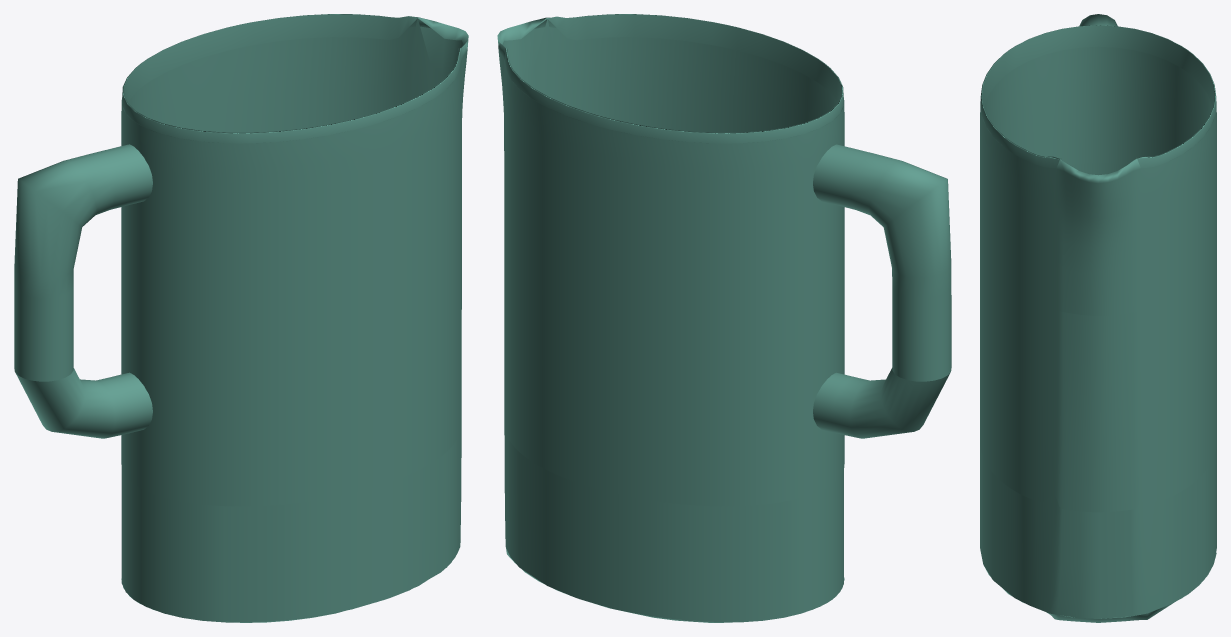
Rendered from jug_reduced.fbx.
The picture shows the model from 3 angles, left to right: view 1: azimuth 30°, elevation 25°; view 2: azimuth 150°, elevation 25°; view 3: azimuth 270°, elevation 25°; orthographic projection. The views are drawn at different scales.
Parts seen in each view (by area): view 1: polySurface24, polySurface23, polySurface25, polySurface20, polySurface21; view 2: polySurface24, polySurface23, polySurface25, polySurface20, polySurface21; view 3: polySurface24, polySurface23, polySurface25, polySurface21, polySurface26, polySurface20.
Part boxes in pixels (<box>): polySurface24: <box>121,18,467,293</box>; polySurface23: <box>121,212,461,506</box>; polySurface25: <box>121,414,461,622</box>; polySurface20: <box>14,144,152,438</box>; polySurface21: <box>122,14,468,143</box>; polySurface24: <box>498,19,844,293</box>; polySurface23: <box>504,213,844,506</box>; polySurface25: <box>504,415,843,622</box>; polySurface20: <box>813,144,951,438</box>; polySurface21: <box>497,14,843,143</box>; polySurface24: <box>980,46,1216,315</box>; polySurface23: <box>980,163,1216,512</box>; polySurface25: <box>980,443,1216,618</box>; polySurface21: <box>980,25,1216,183</box>; polySurface26: <box>984,552,1216,622</box>; polySurface20: <box>1079,14,1117,26</box>.
Bounding box in the file's own units: 19.76 × 21.19 × 9.78.
